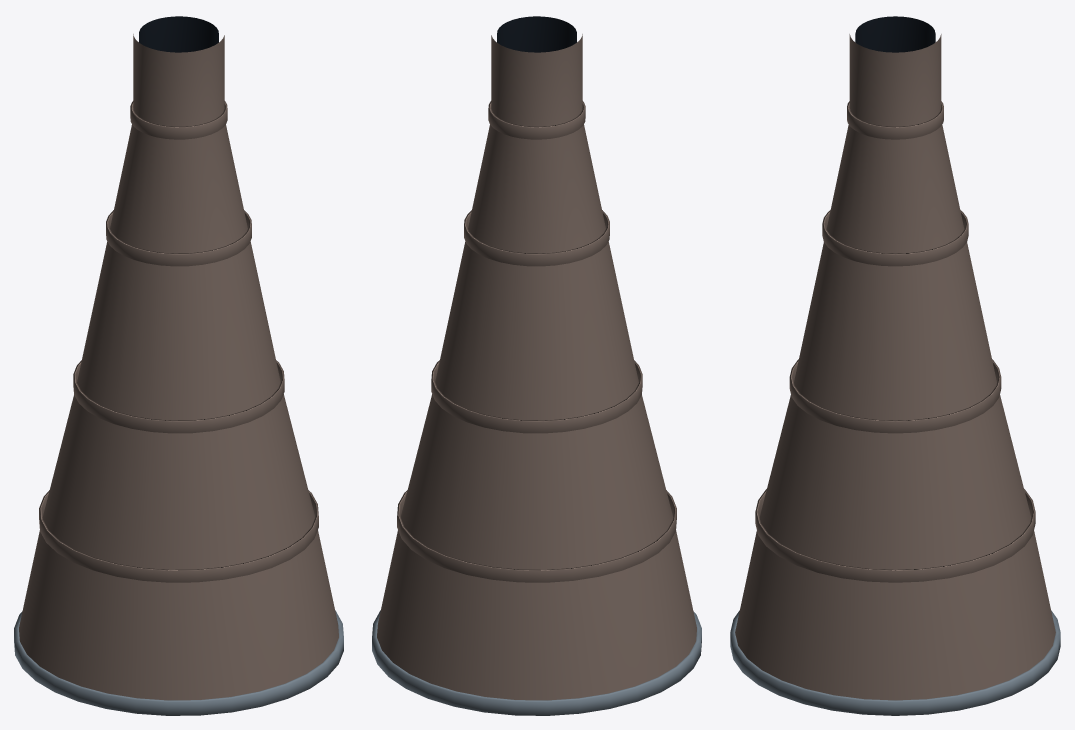
File: titan_stage_1.lr87_01.glb
3 renders of one model, left to right at view 1: azimuth 30°, elevation 25°; view 2: azimuth 150°, elevation 25°; view 3: azimuth 270°, elevation 25°, orthographic.
Visible parts, largest first — view 1: titan_stage_1.lr87_01.bell.mesh_Heat-stained_alloy, titan_stage_1.lr87_01.bell.mesh_Machined_steel, titan_stage_1.lr87_01.bell.mesh_Shadowed_interior; view 2: titan_stage_1.lr87_01.bell.mesh_Heat-stained_alloy, titan_stage_1.lr87_01.bell.mesh_Machined_steel, titan_stage_1.lr87_01.bell.mesh_Shadowed_interior; view 3: titan_stage_1.lr87_01.bell.mesh_Heat-stained_alloy, titan_stage_1.lr87_01.bell.mesh_Machined_steel, titan_stage_1.lr87_01.bell.mesh_Shadowed_interior.
Boxes of the visible parts, bbox=[...] form: titan_stage_1.lr87_01.bell.mesh_Heat-stained_alloy: bbox=[19, 34, 338, 700]; titan_stage_1.lr87_01.bell.mesh_Machined_steel: bbox=[14, 610, 343, 715]; titan_stage_1.lr87_01.bell.mesh_Shadowed_interior: bbox=[139, 16, 218, 52]; titan_stage_1.lr87_01.bell.mesh_Heat-stained_alloy: bbox=[377, 34, 696, 700]; titan_stage_1.lr87_01.bell.mesh_Machined_steel: bbox=[372, 610, 701, 715]; titan_stage_1.lr87_01.bell.mesh_Shadowed_interior: bbox=[497, 16, 576, 52]; titan_stage_1.lr87_01.bell.mesh_Heat-stained_alloy: bbox=[735, 34, 1055, 700]; titan_stage_1.lr87_01.bell.mesh_Machined_steel: bbox=[730, 610, 1060, 715]; titan_stage_1.lr87_01.bell.mesh_Shadowed_interior: bbox=[855, 16, 935, 52].
Size of the model in its own units: 1.3 by 2.65 by 1.3.
